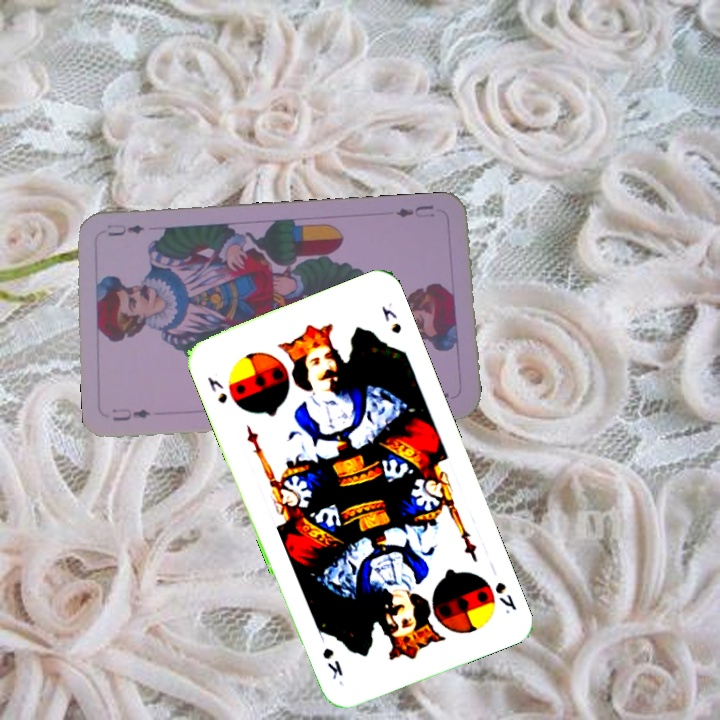EU: (108, 404, 153, 424), (392, 200, 436, 220)
SK: (491, 578, 519, 617), (203, 372, 230, 406)
